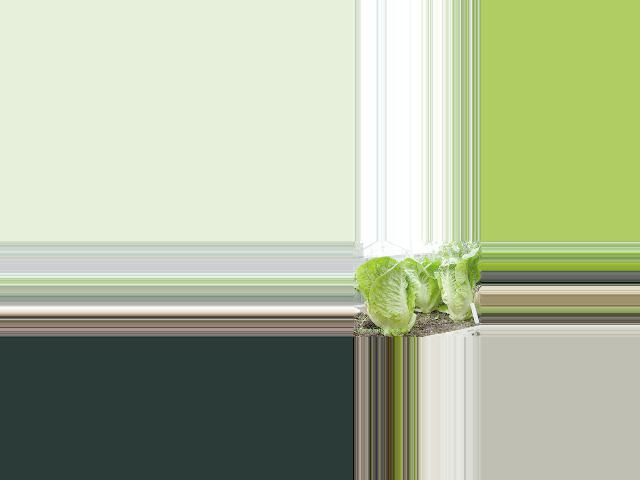lettuce: (433, 249, 476, 329)
